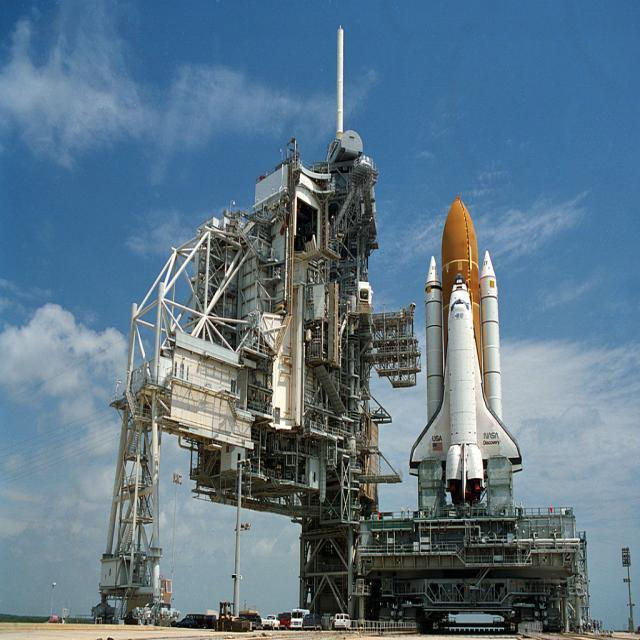Missile: (445, 273, 482, 484), (472, 231, 503, 429), (419, 251, 447, 424), (334, 11, 347, 140)
